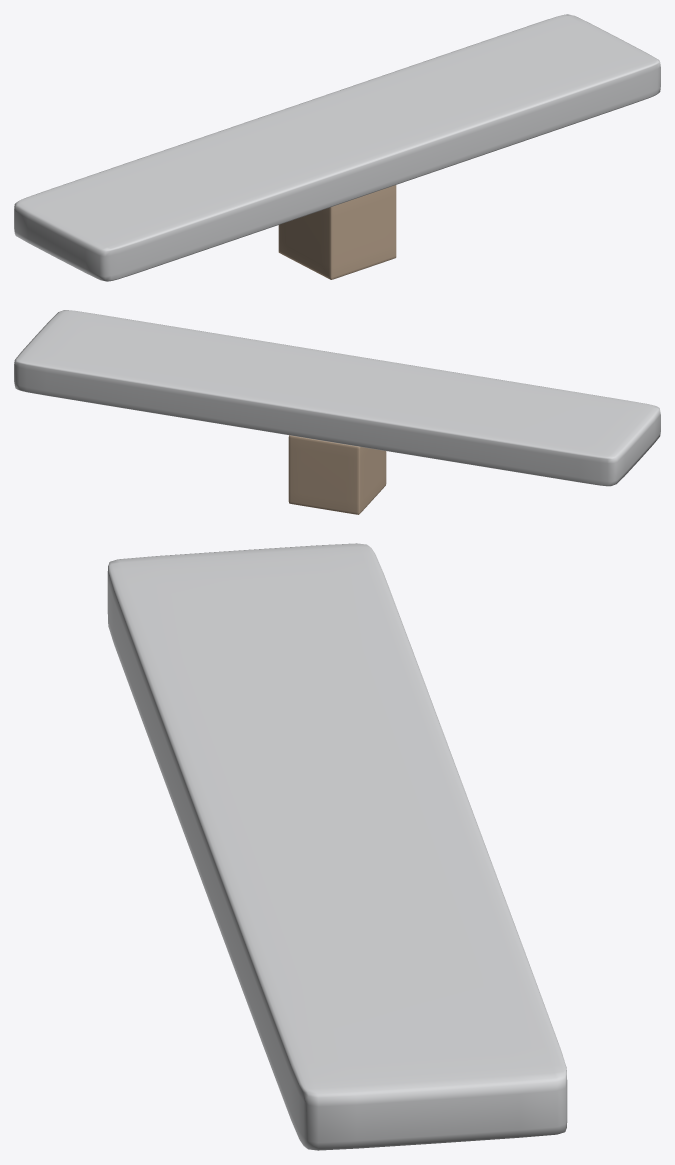
File: PROP_SignPost_v0.glb
The picture shows the model from 3 angles, top to bottom: view 1: azimuth 30°, elevation 25°; view 2: azimuth 150°, elevation 25°; view 3: azimuth 270°, elevation 25°; orthographic projection. The views are drawn at different scales.
Parts seen in each view (by area): view 1: PROP_SignPost_v0; view 2: PROP_SignPost_v0; view 3: PROP_SignPost_v0.
Boxes of the visible parts, x1,y1,x2,y2 form: PROP_SignPost_v0: (14,14,660,281); PROP_SignPost_v0: (14,310,660,514); PROP_SignPost_v0: (107,543,567,1150).
Bounding box in the file's own units: 8.62 × 1.62 × 3.01.
